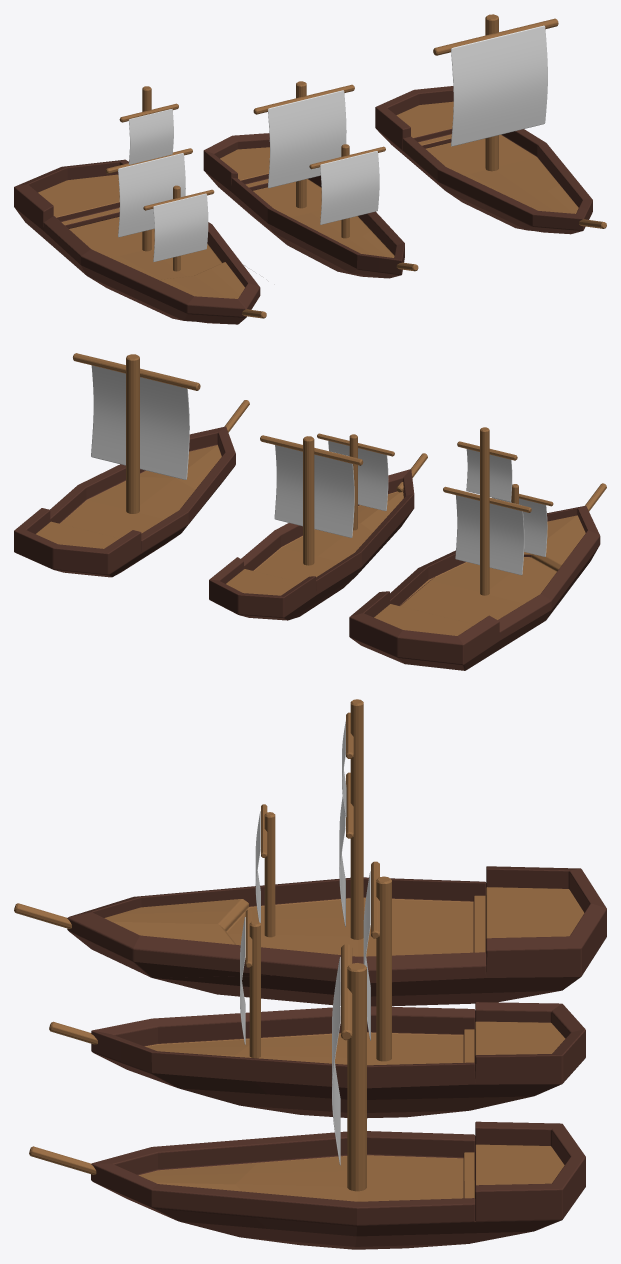
File: Boats.fbx
3 views of the same model, one above another, from view 1: azimuth 30°, elevation 25°; view 2: azimuth 150°, elevation 25°; view 3: azimuth 270°, elevation 25° (orthographic). The views are drawn at different scales.
Parts seen in each view (by area): view 1: Boat3, Boat1, Boat2, Sheet.001, Plane.004, Plane.007, Plane.005, Plane.009, Sheet, Circle, Circle.001, Circle.004 (+2 smaller); view 2: Boat3, Boat1, Boat2, Sheet.001, Plane.004, Plane.007, Circle, Plane.005, Circle.008, Sheet, Circle.003, Plane.009 (+4 smaller); view 3: Boat3, Boat1, Boat2, Circle, Circle.008, Circle.003, Circle.006, Circle.012, Sheet.001, Circle.001, Plane.004, Circle.002.
Boxes of the visible parts, x1=… form: Boat3: x1=14, y1=159, x2=260, y2=324; Boat1: x1=375, y1=86, x2=592, y2=234; Boat2: x1=203, y1=133, x2=404, y2=278; Sheet.001: x1=451, y1=25, x2=547, y2=146; Plane.004: x1=268, y1=90, x2=346, y2=188; Plane.007: x1=118, y1=153, x2=185, y2=237; Plane.005: x1=320, y1=151, x2=379, y2=224; Plane.009: x1=153, y1=193, x2=208, y2=261; Sheet: x1=128, y1=109, x2=173, y2=164; Circle: x1=485, y1=14, x2=498, y2=171; Circle.001: x1=433, y1=18, x2=558, y2=55; Circle.004: x1=253, y1=84, x2=354, y2=114; Boat3: x1=349, y1=506, x2=600, y2=670; Boat1: x1=14, y1=426, x2=235, y2=577; Boat2: x1=209, y1=469, x2=414, y2=620; Sheet.001: x1=91, y1=358, x2=189, y2=479; Plane.004: x1=274, y1=439, x2=354, y2=537; Plane.007: x1=455, y1=491, x2=524, y2=575; Circle: x1=126, y1=354, x2=139, y2=513; Plane.005: x1=328, y1=436, x2=388, y2=511; Circle.008: x1=480, y1=427, x2=489, y2=595; Sheet: x1=466, y1=449, x2=512, y2=501; Circle.003: x1=303, y1=436, x2=314, y2=565; Plane.009: x1=492, y1=495, x2=547, y2=556; Boat3: x1=67, y1=866, x2=606, y2=1006; Boat1: x1=91, y1=1121, x2=585, y2=1249; Boat2: x1=91, y1=1002, x2=585, y2=1118; Circle: x1=347, y1=963, x2=366, y2=1191; Circle.008: x1=350, y1=699, x2=363, y2=939; Circle.003: x1=376, y1=876, x2=391, y2=1061; Circle.006: x1=249, y1=921, x2=260, y2=1058; Circle.012: x1=264, y1=812, x2=275, y2=937; Sheet.001: x1=332, y1=957, x2=340, y2=1165; Circle.001: x1=341, y1=944, x2=352, y2=1040; Plane.004: x1=363, y1=871, x2=370, y2=1040; Circle.002: x1=29, y1=1146, x2=96, y2=1174.
Bounding box in the file's own units: 4586 × 1868 × 3425.
